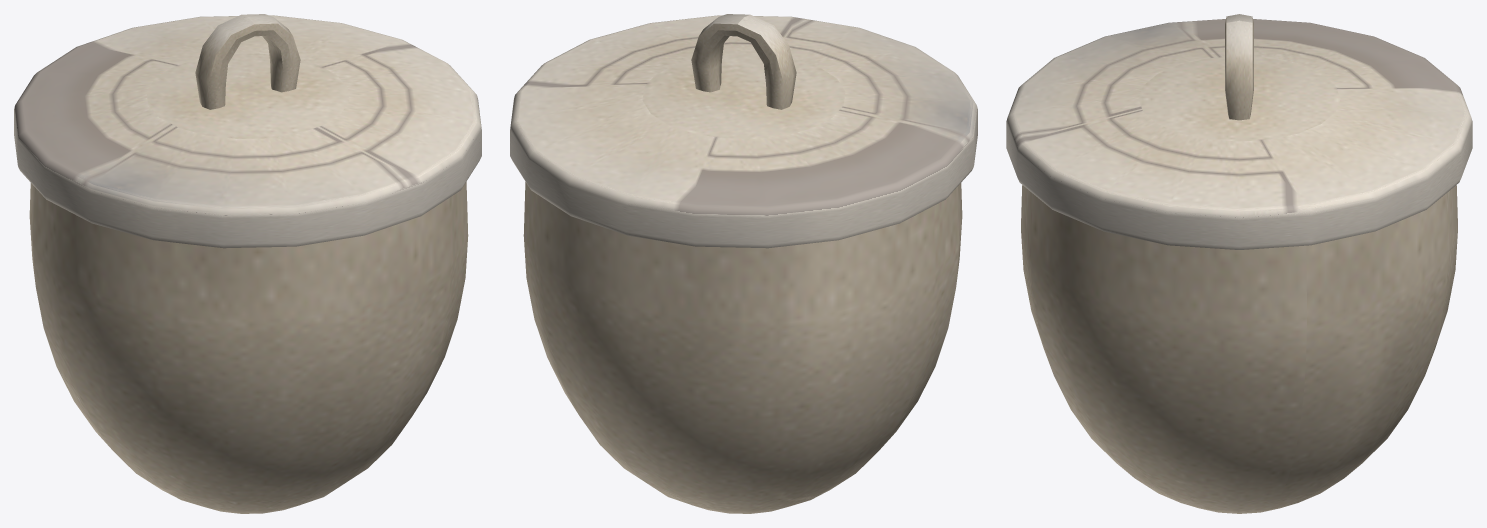
File: crucible_and_cover.fbx
3 views of the same model, side by side, from view 1: azimuth 30°, elevation 25°; view 2: azimuth 150°, elevation 25°; view 3: azimuth 270°, elevation 25° (orthographic).
Visible parts, largest first — view 1: pSphere7, pCylinder19, pCube35; view 2: pSphere7, pCylinder19, pCube35; view 3: pSphere7, pCylinder19, pCube35.
Part boxes in pixels (box(x1,y1,x2,y2)): pSphere7: box(29, 182, 468, 513); pCylinder19: box(14, 15, 481, 248); pCube35: box(195, 14, 300, 109); pSphere7: box(523, 182, 962, 513); pCylinder19: box(510, 15, 977, 248); pCube35: box(691, 14, 796, 109); pSphere7: box(1021, 185, 1457, 513); pCylinder19: box(1006, 19, 1472, 249); pCube35: box(1225, 14, 1253, 120).
Size of the model in its own units: 11.38 by 12.85 by 11.38.
